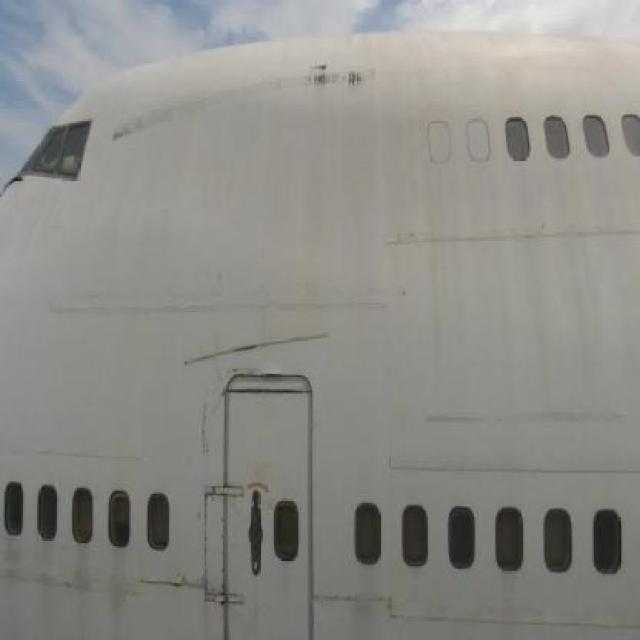Rust: (296, 60, 384, 106)
Scartch: (188, 394, 215, 471), (101, 108, 154, 144), (226, 328, 262, 366), (214, 368, 229, 410)
